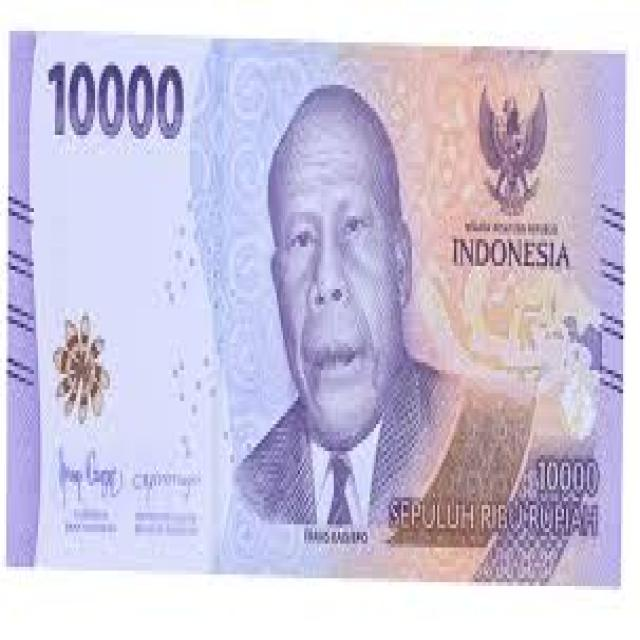sepuluh ribu rupiah: (7, 28, 627, 594)
